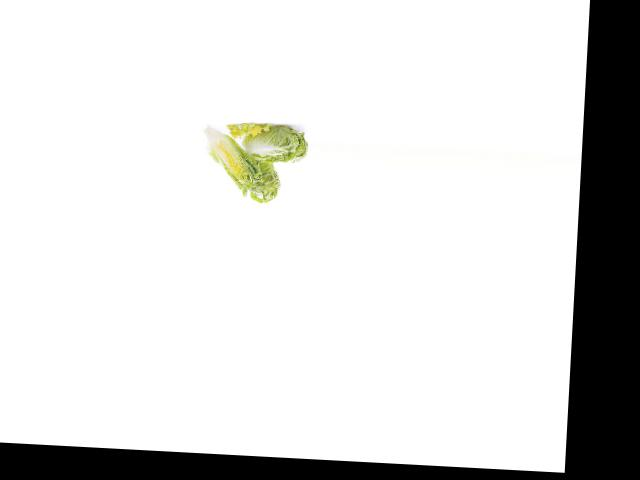lettuce: (233, 119, 307, 166)
